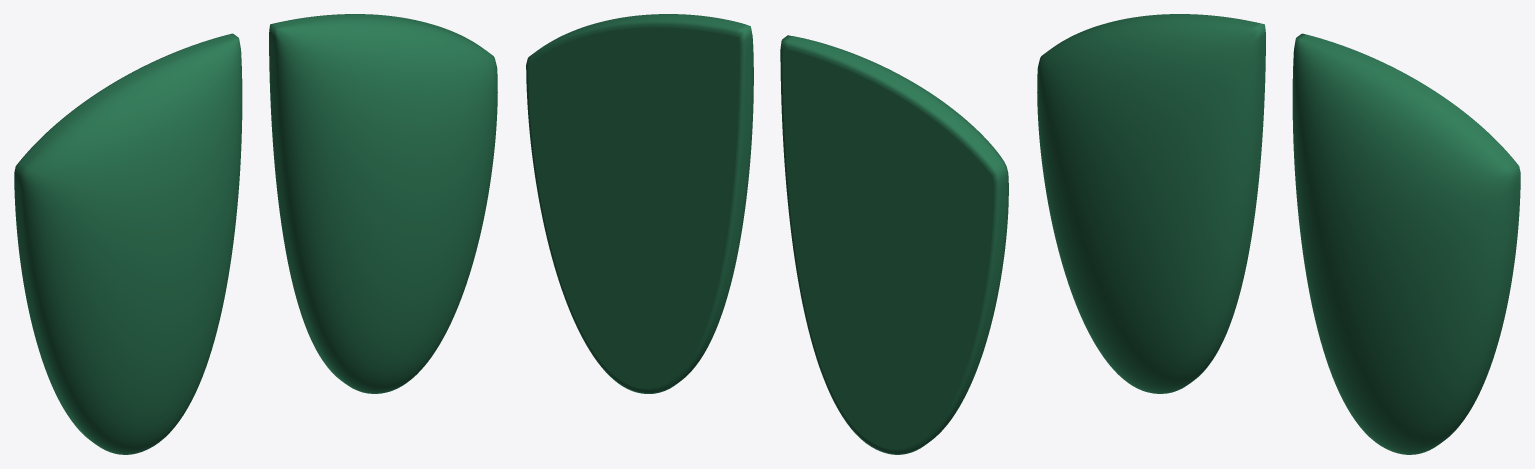
Rendered from matched-pair-v1.glb.
The picture shows the model from 3 angles, left to right: view 1: azimuth 30°, elevation 25°; view 2: azimuth 150°, elevation 25°; view 3: azimuth 330°, elevation 25°; orthographic projection.
Visible parts, largest first — view 1: Side-Tongue Cabochon 22x13x4mm, Side-Tongue Cabochon 22x13x4mm.001; view 2: Side-Tongue Cabochon 22x13x4mm, Side-Tongue Cabochon 22x13x4mm.001; view 3: Side-Tongue Cabochon 22x13x4mm.001, Side-Tongue Cabochon 22x13x4mm.
Boxes of the visible parts, x1,y1,x2,y2 form: Side-Tongue Cabochon 22x13x4mm: (14, 33, 242, 454); Side-Tongue Cabochon 22x13x4mm.001: (269, 14, 497, 393); Side-Tongue Cabochon 22x13x4mm: (780, 35, 1008, 454); Side-Tongue Cabochon 22x13x4mm.001: (526, 14, 753, 393); Side-Tongue Cabochon 22x13x4mm.001: (1292, 33, 1520, 454); Side-Tongue Cabochon 22x13x4mm: (1037, 14, 1265, 393).
Bounding box in the file's own units: 0.0281 × 0.022 × 0.00398.
